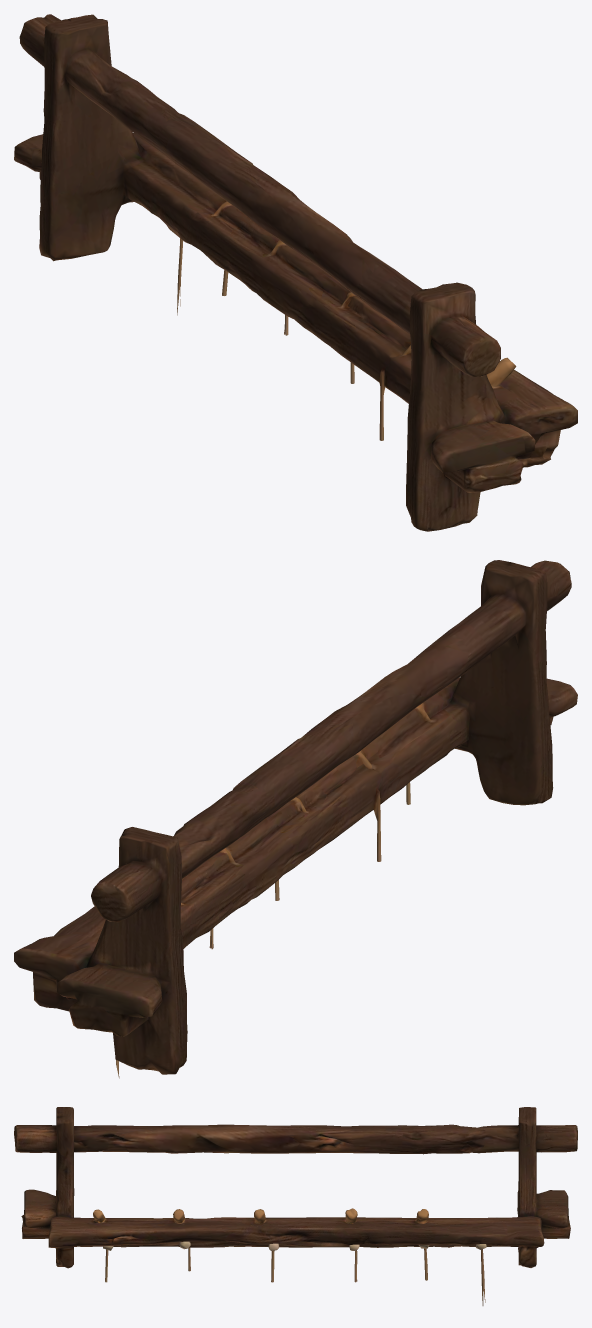
Rendered from ema-rack-frame.glb.
The picture shows the model from 3 angles, top to bottom: view 1: azimuth 30°, elevation 25°; view 2: azimuth 150°, elevation 25°; view 3: azimuth 270°, elevation 25°; orthographic projection. The views are drawn at different scales.
Parts seen in each view (by area): view 1: tripo_node_6adf7c7b-c6b0-488d-b9a6-dd8d20bb441e; view 2: tripo_node_6adf7c7b-c6b0-488d-b9a6-dd8d20bb441e; view 3: tripo_node_6adf7c7b-c6b0-488d-b9a6-dd8d20bb441e.
Part boxes in pixels (bbox=[...]): tripo_node_6adf7c7b-c6b0-488d-b9a6-dd8d20bb441e: bbox=[14, 14, 577, 531]; tripo_node_6adf7c7b-c6b0-488d-b9a6-dd8d20bb441e: bbox=[14, 560, 577, 1078]; tripo_node_6adf7c7b-c6b0-488d-b9a6-dd8d20bb441e: bbox=[14, 1107, 577, 1305].
Size of the model in its own units: 0.2033 by 0.3531 by 1.
1 material, 1 textured.
